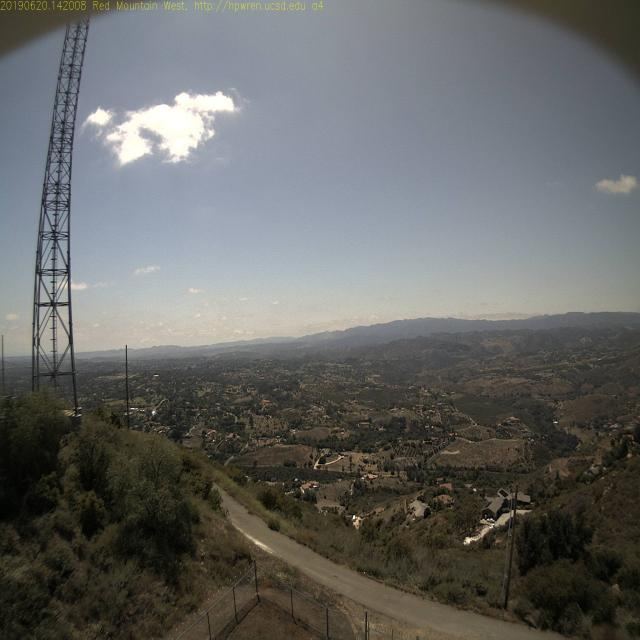smoke: (289, 336, 317, 360)
